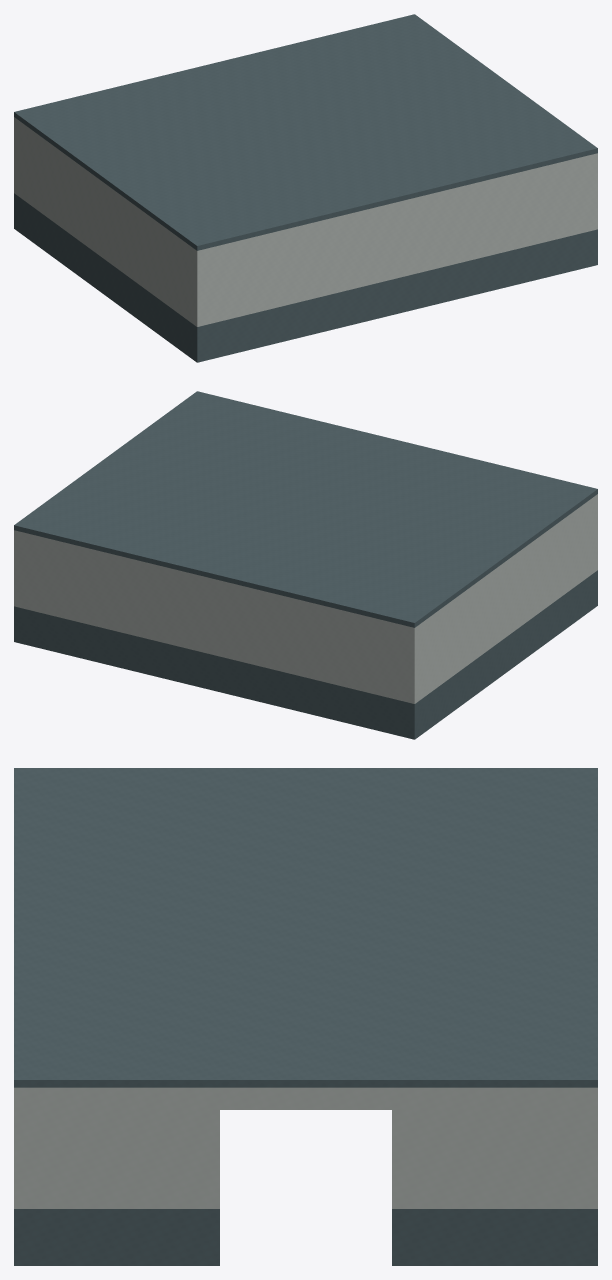
The model's file is AST-CRW-G3-001.glb.
3 views of the same model, one above another, from view 1: azimuth 30°, elevation 25°; view 2: azimuth 150°, elevation 25°; view 3: azimuth 270°, elevation 25° (orthographic). The views are drawn at different scales.
Visible parts, largest first — view 1: overhead_staff_bluegrey_paint_room, architecture_staff_white_paint_room, architecture_staff_bluegrey_paint_room; view 2: overhead_staff_bluegrey_paint_room, architecture_staff_white_paint_room, architecture_staff_bluegrey_paint_room; view 3: overhead_staff_bluegrey_paint_room, architecture_staff_white_paint_room, architecture_staff_bluegrey_paint_room.
Boxes of the visible parts, x1=… form: overhead_staff_bluegrey_paint_room: x1=14, y1=14, x2=597, y2=250; architecture_staff_white_paint_room: x1=14, y1=117, x2=597, y2=326; architecture_staff_bluegrey_paint_room: x1=14, y1=193, x2=597, y2=362; overhead_staff_bluegrey_paint_room: x1=14, y1=391, x2=597, y2=627; architecture_staff_white_paint_room: x1=14, y1=494, x2=597, y2=703; architecture_staff_bluegrey_paint_room: x1=14, y1=570, x2=597, y2=739; overhead_staff_bluegrey_paint_room: x1=14, y1=768, x2=597, y2=1087; architecture_staff_white_paint_room: x1=14, y1=1087, x2=597, y2=1208; architecture_staff_bluegrey_paint_room: x1=14, y1=1209, x2=597, y2=1265.
Bounding box in the file's own units: 12 × 3.34 × 9.5.
6 materials, 6 textured.
